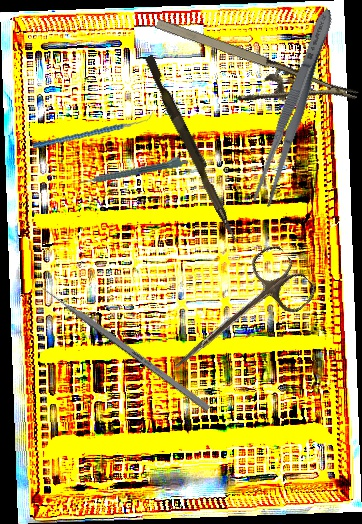Chopper: (32, 100, 154, 160)
Dressing Forceps: (249, 5, 340, 209)
Handpiece: (77, 153, 190, 187)
Iris Scissors: (155, 240, 320, 396)
Needle Holder: (141, 12, 360, 141)
Pusher: (28, 276, 212, 412), (139, 54, 246, 244)
